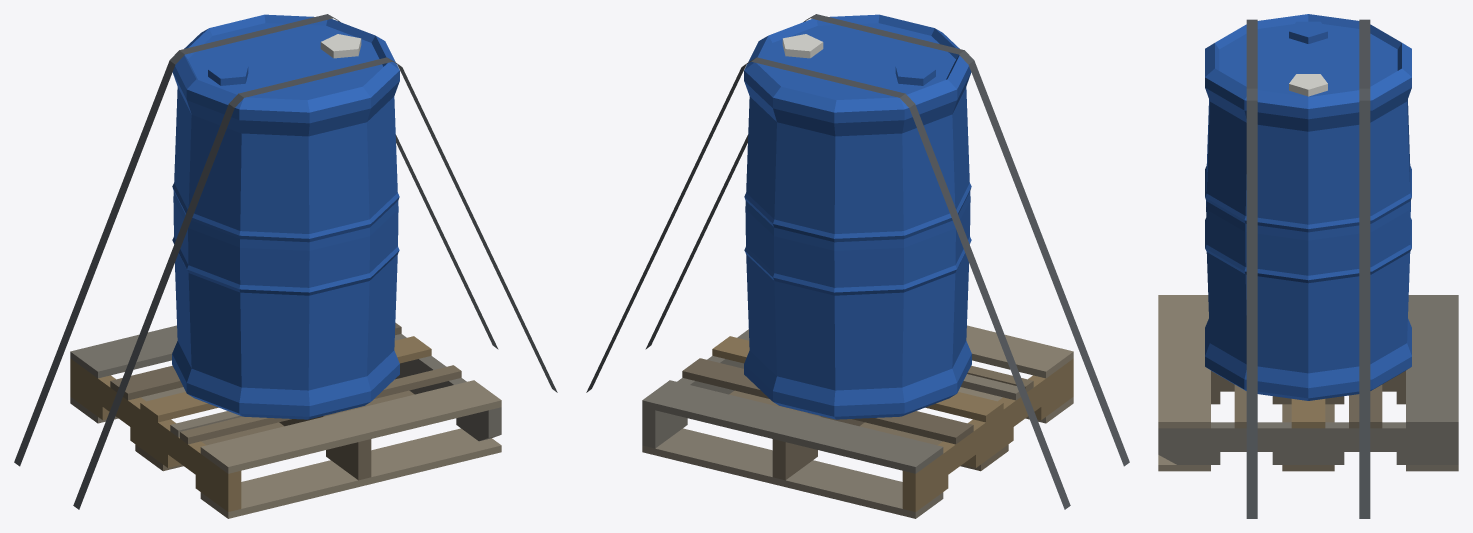
Rendered from barrel-pallet.glb.
The picture shows the model from 3 angles, left to right: view 1: azimuth 30°, elevation 25°; view 2: azimuth 150°, elevation 25°; view 3: azimuth 270°, elevation 25°; orthographic projection. The views are drawn at different scales.
Visible parts, largest first — view 1: BarrelPlastic, PalletSmall, BarrelPallet_Strap; view 2: BarrelPlastic, PalletSmall, BarrelPallet_Strap; view 3: BarrelPlastic, PalletSmall, BarrelPallet_Strap.
Part boxes in pixels (x1=…): BarrelPlastic: x1=172, y1=14, x2=399, y2=419; PalletSmall: x1=70, y1=322, x2=501, y2=518; BarrelPallet_Strap: x1=14, y1=14, x2=557, y2=509; BarrelPlastic: x1=744, y1=14, x2=971, y2=419; PalletSmall: x1=642, y1=325, x2=1073, y2=518; BarrelPallet_Strap: x1=586, y1=14, x2=1129, y2=509; BarrelPlastic: x1=1205, y1=14, x2=1411, y2=400; PalletSmall: x1=1158, y1=295, x2=1458, y2=471; BarrelPallet_Strap: x1=1246, y1=19, x2=1370, y2=518.
Bounding box in the file's own units: 1.4 × 1.04 × 0.8.
